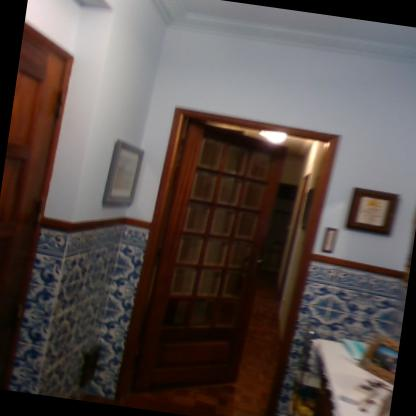semi: (115, 94, 350, 415)
